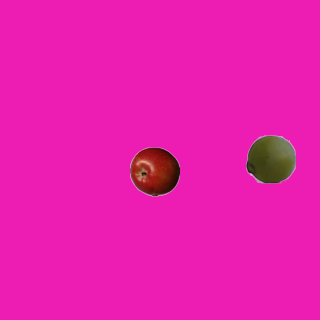Apple Braeburn: (129, 146, 179, 196)
Grape White 4: (245, 133, 295, 183)
